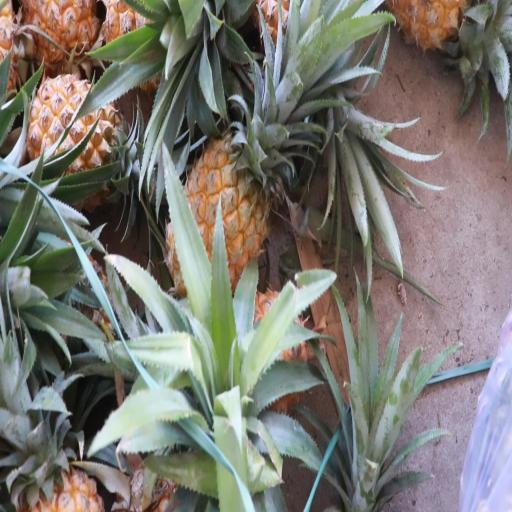Pineapple - v8 v1: (162, 116, 276, 310), (22, 64, 129, 216)
